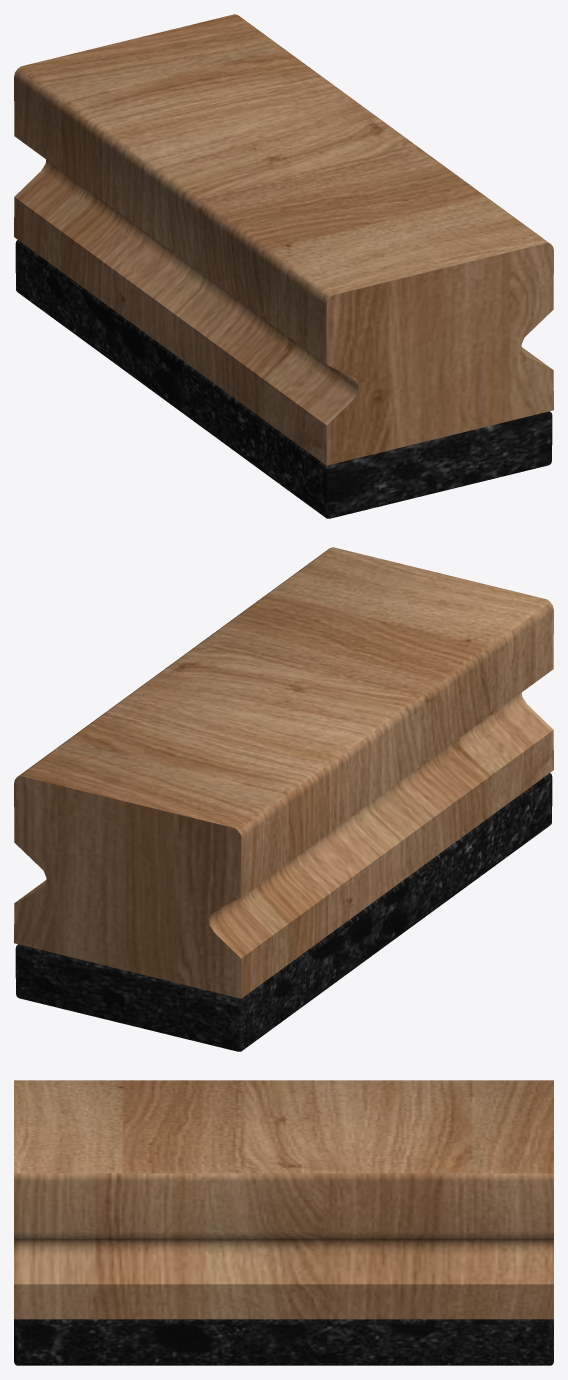
The model's file is duster.fbx.
3 views of the same model, one above another, from view 1: azimuth 30°, elevation 25°; view 2: azimuth 150°, elevation 25°; view 3: azimuth 270°, elevation 25° (orthographic). The views are drawn at different scales.
Parts seen in each view (by area): view 1: Rectangle001, Rectangle002; view 2: Rectangle001, Rectangle002; view 3: Rectangle001, Rectangle002.
Boxes of the visible parts, x1,y1,x2,y2 form: Rectangle001: [14, 14, 553, 465]; Rectangle002: [15, 240, 552, 518]; Rectangle001: [14, 547, 553, 998]; Rectangle002: [15, 773, 552, 1051]; Rectangle001: [14, 1080, 553, 1319]; Rectangle002: [14, 1319, 553, 1365].
Size of the model in its own units: 11.9 by 11.21 by 28.31.
2 materials, 2 textured.
